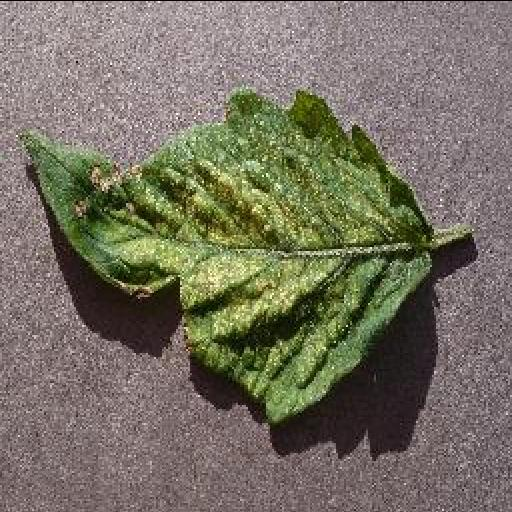disease_tomato: (18, 90, 434, 418)
